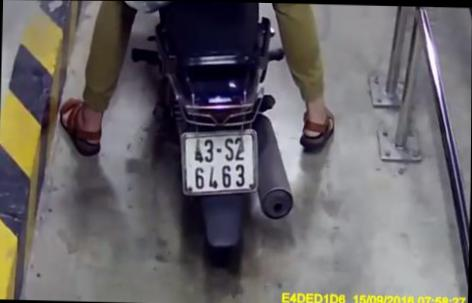LP: (177, 126, 260, 198)
